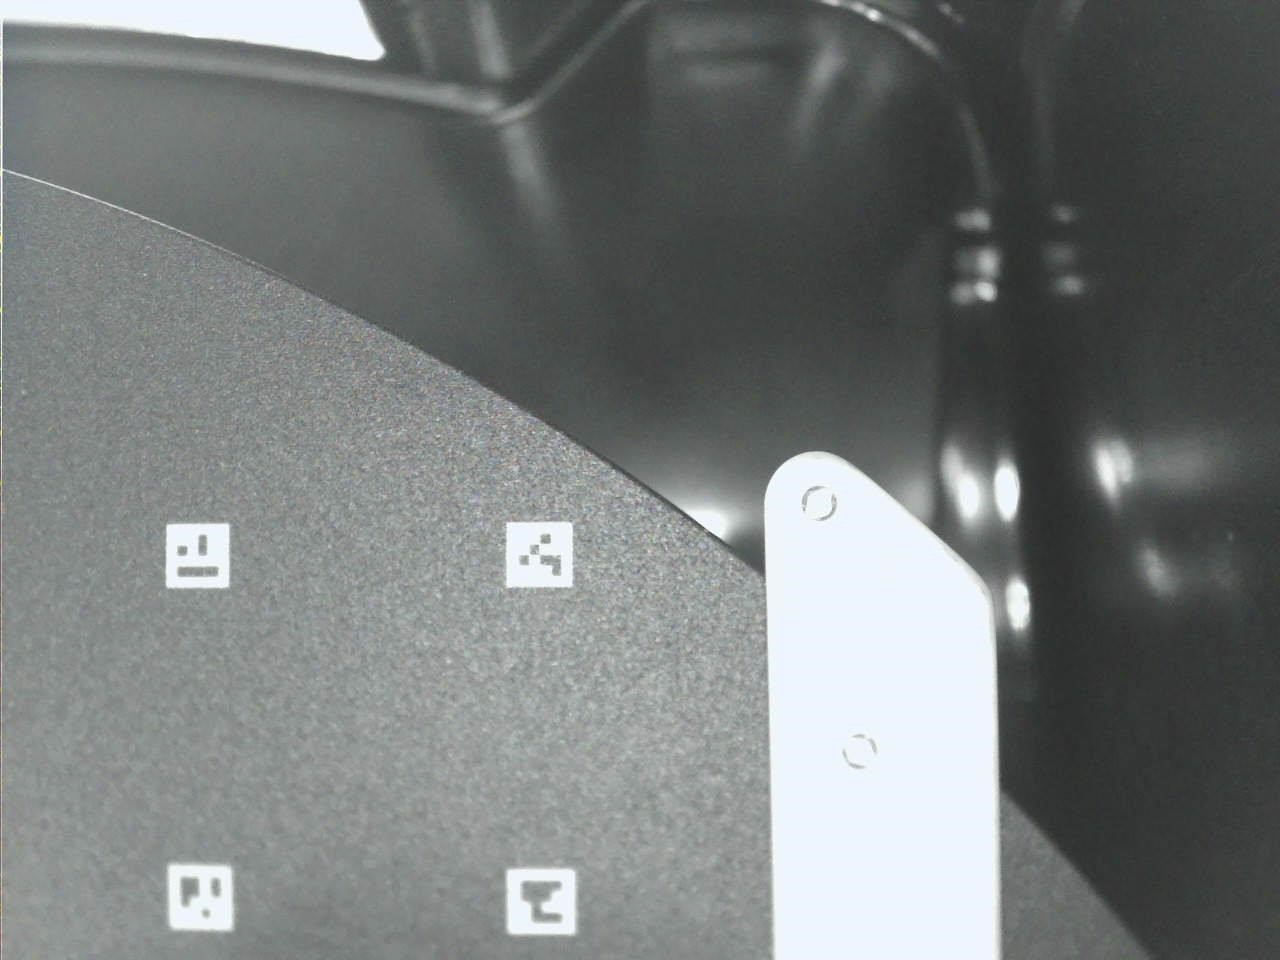forktip: (755, 425, 1014, 960)
